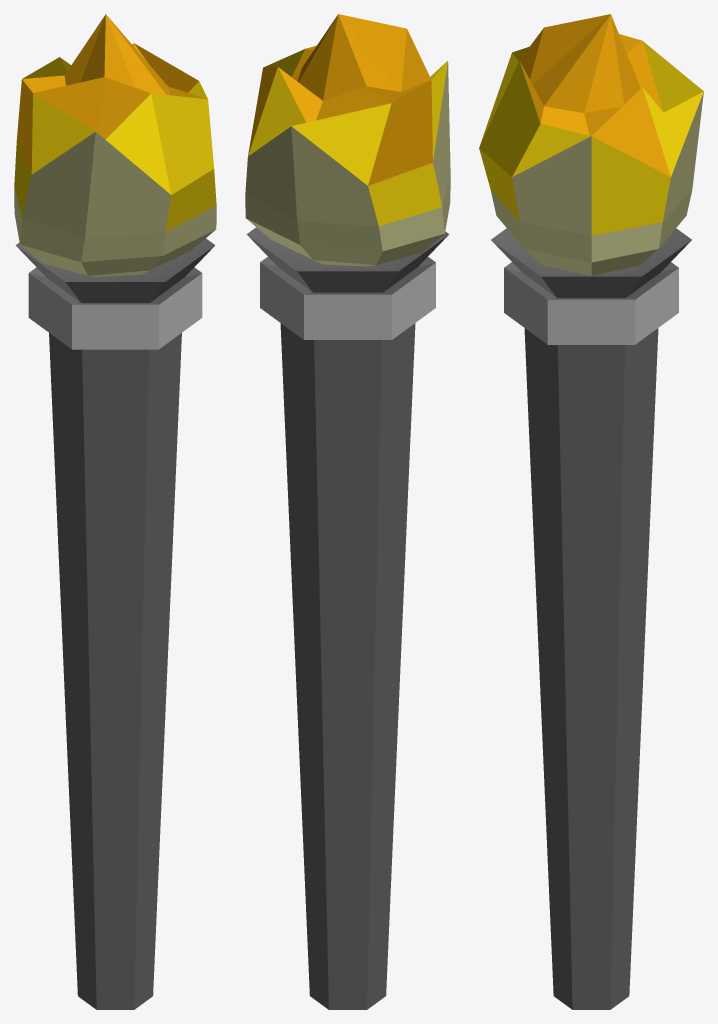
File: Fakkel.fbx
3 renders of one model, left to right at view 1: azimuth 30°, elevation 25°; view 2: azimuth 150°, elevation 25°; view 3: azimuth 270°, elevation 25°, orthographic.
Visible parts, largest first — view 1: pSphere2; view 2: pSphere2; view 3: pSphere2.
Part boxes in pixels (x1=…): pSphere2: x1=14, y1=14, x2=216, y2=1009; pSphere2: x1=245, y1=14, x2=450, y2=1009; pSphere2: x1=479, y1=14, x2=703, y2=1009.
Size of the model in its own units: 0.5529 by 2.7 by 0.5594.
